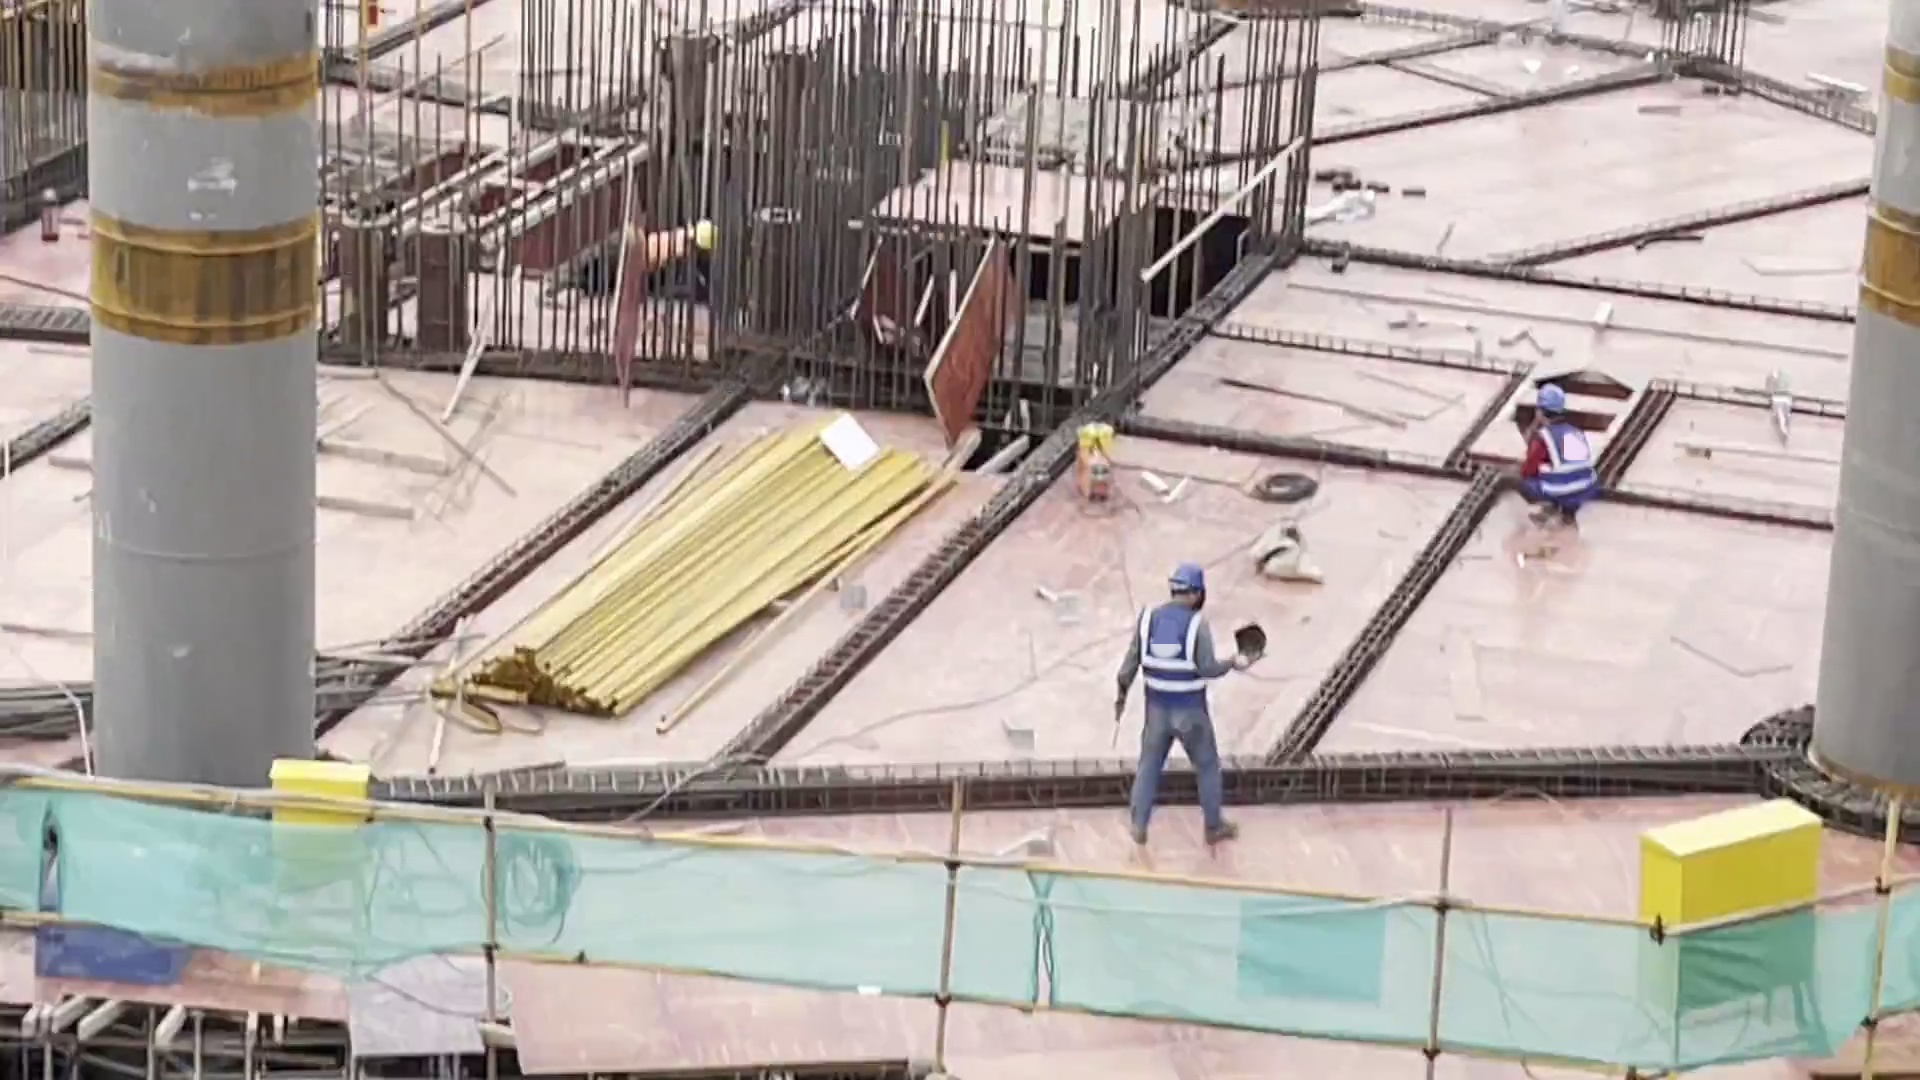helmet: (1167, 565, 1207, 592), (1536, 383, 1567, 416)
person: (1117, 561, 1260, 863), (1509, 379, 1597, 539)
vest: (1140, 598, 1209, 706), (1531, 422, 1598, 503)
